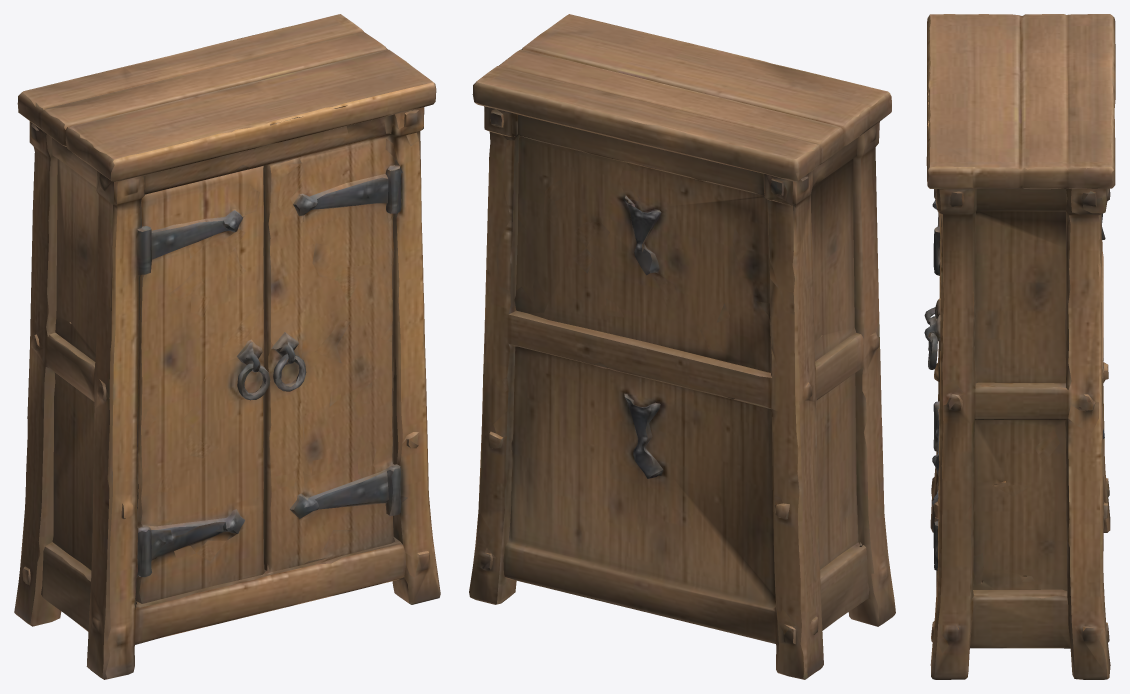
3 renders of one model, left to right at view 1: azimuth 30°, elevation 25°; view 2: azimuth 150°, elevation 25°; view 3: azimuth 270°, elevation 25°, orthographic. The views are drawn at different scales.
Visible parts, largest first — view 1: geometry_0; view 2: geometry_0; view 3: geometry_0.
Boxes of the visible parts, box(x1,y1,x2,y2) form: geometry_0: box(14, 14, 440, 679); geometry_0: box(469, 14, 895, 679); geometry_0: box(924, 14, 1115, 679).
Size of the model in its own units: 0.7487 by 1.1 by 0.3735.
1 material, 1 textured.
